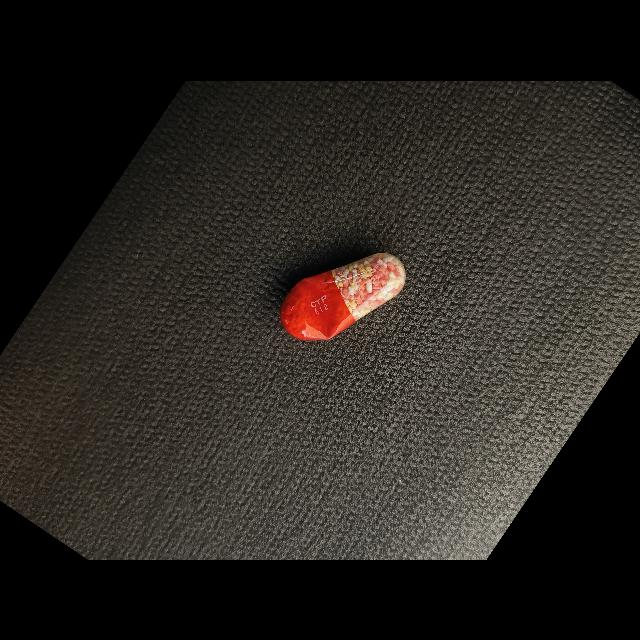Defective Capsule: (280, 252, 406, 340)
